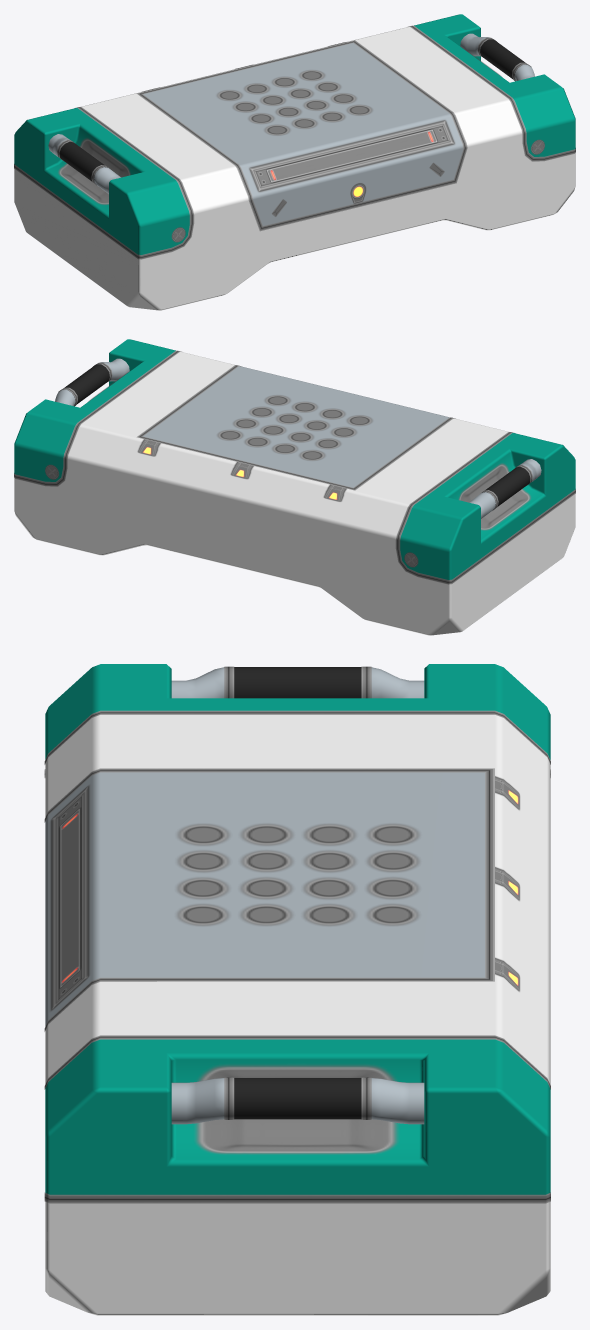
The model's file is cargo-tank.glb.
3 views of the same model, one above another, from view 1: azimuth 30°, elevation 25°; view 2: azimuth 150°, elevation 25°; view 3: azimuth 270°, elevation 25° (orthographic). The views are drawn at different scales.
Visible parts, largest first — view 1: Container002, Container002_d; view 2: Container002, Container002_d; view 3: Container002, Container002_d.
Boxes of the visible parts, box(x1,y1,x2,y2) form: Container002: box(14, 14, 575, 310); Container002_d: box(14, 25, 575, 259); Container002: box(14, 339, 575, 635); Container002_d: box(14, 350, 575, 584); Container002: box(45, 664, 550, 1315); Container002_d: box(44, 666, 550, 1203).
Bounding box in the file's own units: 1.25 × 0.3205 × 0.6333.
5 materials, 1 textured.
